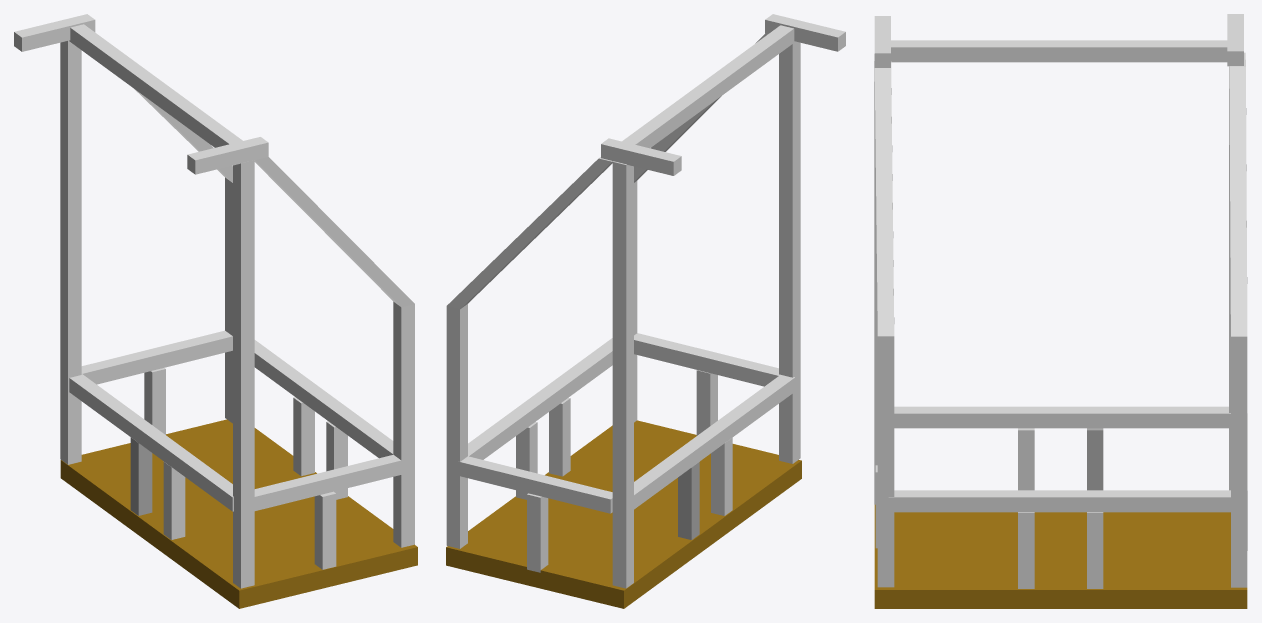
The model's file is Scaffold.fbx.
3 renders of one model, left to right at view 1: azimuth 30°, elevation 25°; view 2: azimuth 150°, elevation 25°; view 3: azimuth 270°, elevation 25°, orthographic. The views are drawn at different scales.
Parts seen in each view (by area): view 1: Cubo, Cubo.002, Cubo.015, Cubo.001, Cubo.010, Cubo.017, Cubo.009, Cubo.012, Cubo.013, Cubo.004, Cubo.016, Cubo.011 (+6 smaller); view 2: Cubo, Cubo.015, Cubo.002, Cubo.004, Cubo.010, Cubo.017, Cubo.009, Cubo.013, Cubo.012, Cubo.003, Cubo.001, Cubo.014 (+6 smaller); view 3: Cubo, Cubo.001, Cubo.004, Cubo.009, Cubo.017, Cubo.010, Cubo.005, Cubo.006, Cubo.002, Cubo.008, Cubo.007, Cubo.003 (+2 smaller).
Part boxes in pixels (x1=…): Cubo: x1=60, y1=419, x2=417, y2=608; Cubo.002: x1=233, y1=160, x2=254, y2=588; Cubo.015: x1=60, y1=40, x2=81, y2=464; Cubo.001: x1=254, y1=157, x2=414, y2=547; Cubo.010: x1=69, y1=374, x2=233, y2=511; Cubo.017: x1=69, y1=24, x2=242, y2=147; Cubo.009: x1=232, y1=340, x2=393, y2=458; Cubo.012: x1=254, y1=454, x2=401, y2=510; Cubo.013: x1=81, y1=330, x2=232, y2=384; Cubo.004: x1=134, y1=89, x2=232, y2=423; Cubo.016: x1=187, y1=137, x2=268, y2=174; Cubo.011: x1=314, y1=491, x2=336, y2=569; Cubo: x1=446, y1=420, x2=801, y2=608; Cubo.015: x1=612, y1=161, x2=633, y2=588; Cubo.002: x1=779, y1=41, x2=800, y2=463; Cubo.004: x1=446, y1=157, x2=612, y2=548; Cubo.010: x1=634, y1=375, x2=795, y2=509; Cubo.017: x1=622, y1=25, x2=795, y2=148; Cubo.009: x1=468, y1=338, x2=612, y2=459; Cubo.013: x1=458, y1=456, x2=612, y2=513; Cubo.012: x1=634, y1=333, x2=780, y2=386; Cubo.003: x1=601, y1=138, x2=681, y2=175; Cubo.001: x1=634, y1=33, x2=767, y2=422; Cubo.014: x1=527, y1=493, x2=548, y2=572; Cubo: x1=874, y1=504, x2=1247, y2=608; Cubo.001: x1=874, y1=61, x2=894, y2=587; Cubo.004: x1=1229, y1=59, x2=1247, y2=587; Cubo.009: x1=888, y1=490, x2=1232, y2=512; Cubo.017: x1=891, y1=40, x2=1227, y2=62; Cubo.010: x1=894, y1=406, x2=1230, y2=428; Cubo.005: x1=1018, y1=512, x2=1034, y2=588; Cubo.006: x1=1087, y1=512, x2=1103, y2=588; Cubo.002: x1=874, y1=54, x2=877, y2=504; Cubo.008: x1=1018, y1=428, x2=1034, y2=490; Cubo.007: x1=1087, y1=428, x2=1103, y2=490; Cubo.003: x1=1227, y1=14, x2=1243, y2=66.
Size of the model in its own units: 2.54 by 4.92 by 3.47.
